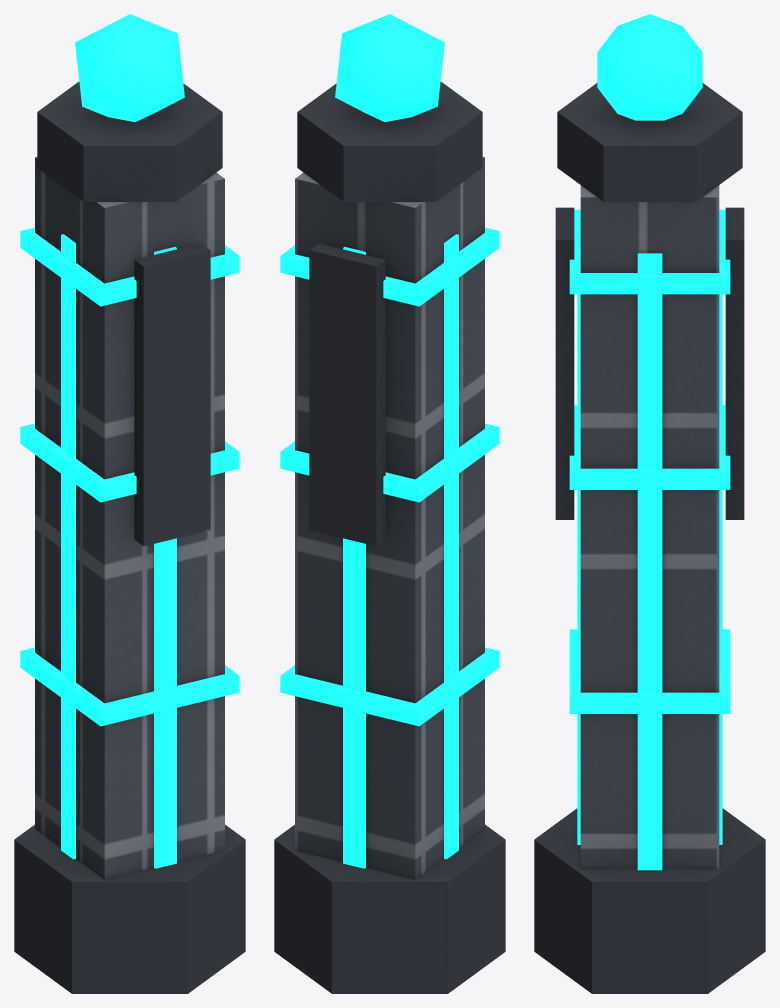
File: fort_l8_post.glb
3 views of the same model, side by side, from view 1: azimuth 30°, elevation 25°; view 2: azimuth 150°, elevation 25°; view 3: azimuth 270°, elevation 25° (orthographic).
Parts seen in each view (by area): view 1: fort_l8_post; view 2: fort_l8_post; view 3: fort_l8_post.
Part boxes in pixels (x1,y1,x2,y2): fort_l8_post: [14, 14, 245, 993]; fort_l8_post: [274, 14, 505, 993]; fort_l8_post: [534, 14, 765, 993].
Bounding box in the file's own units: 0.1299 × 0.67 × 0.15.
Materials: 2 (1 with a texture image).
